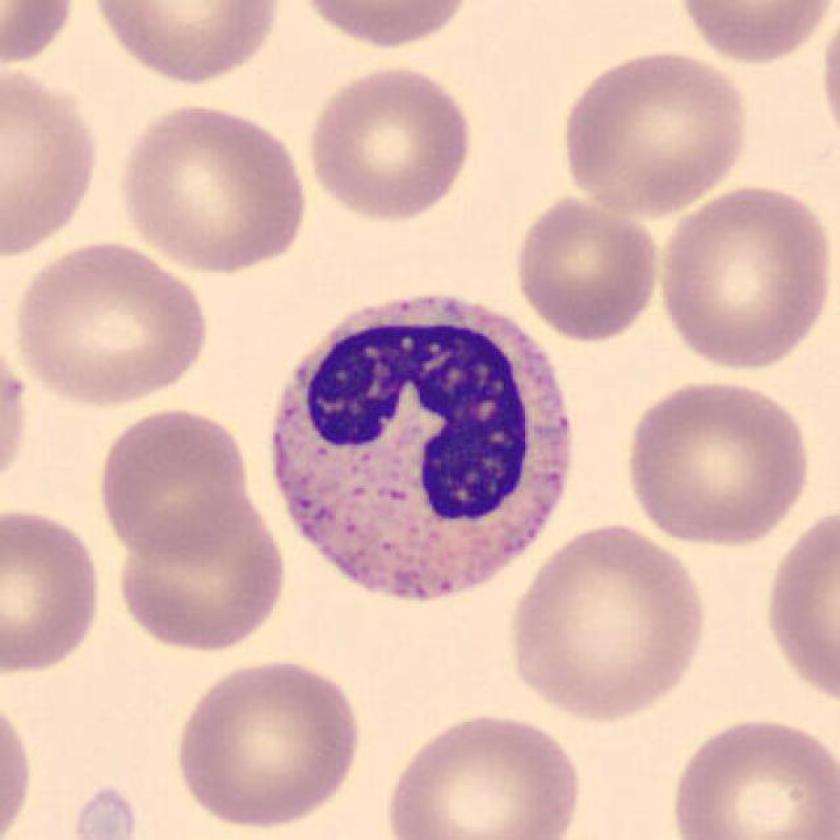neutrophil: (270, 299, 577, 598)
